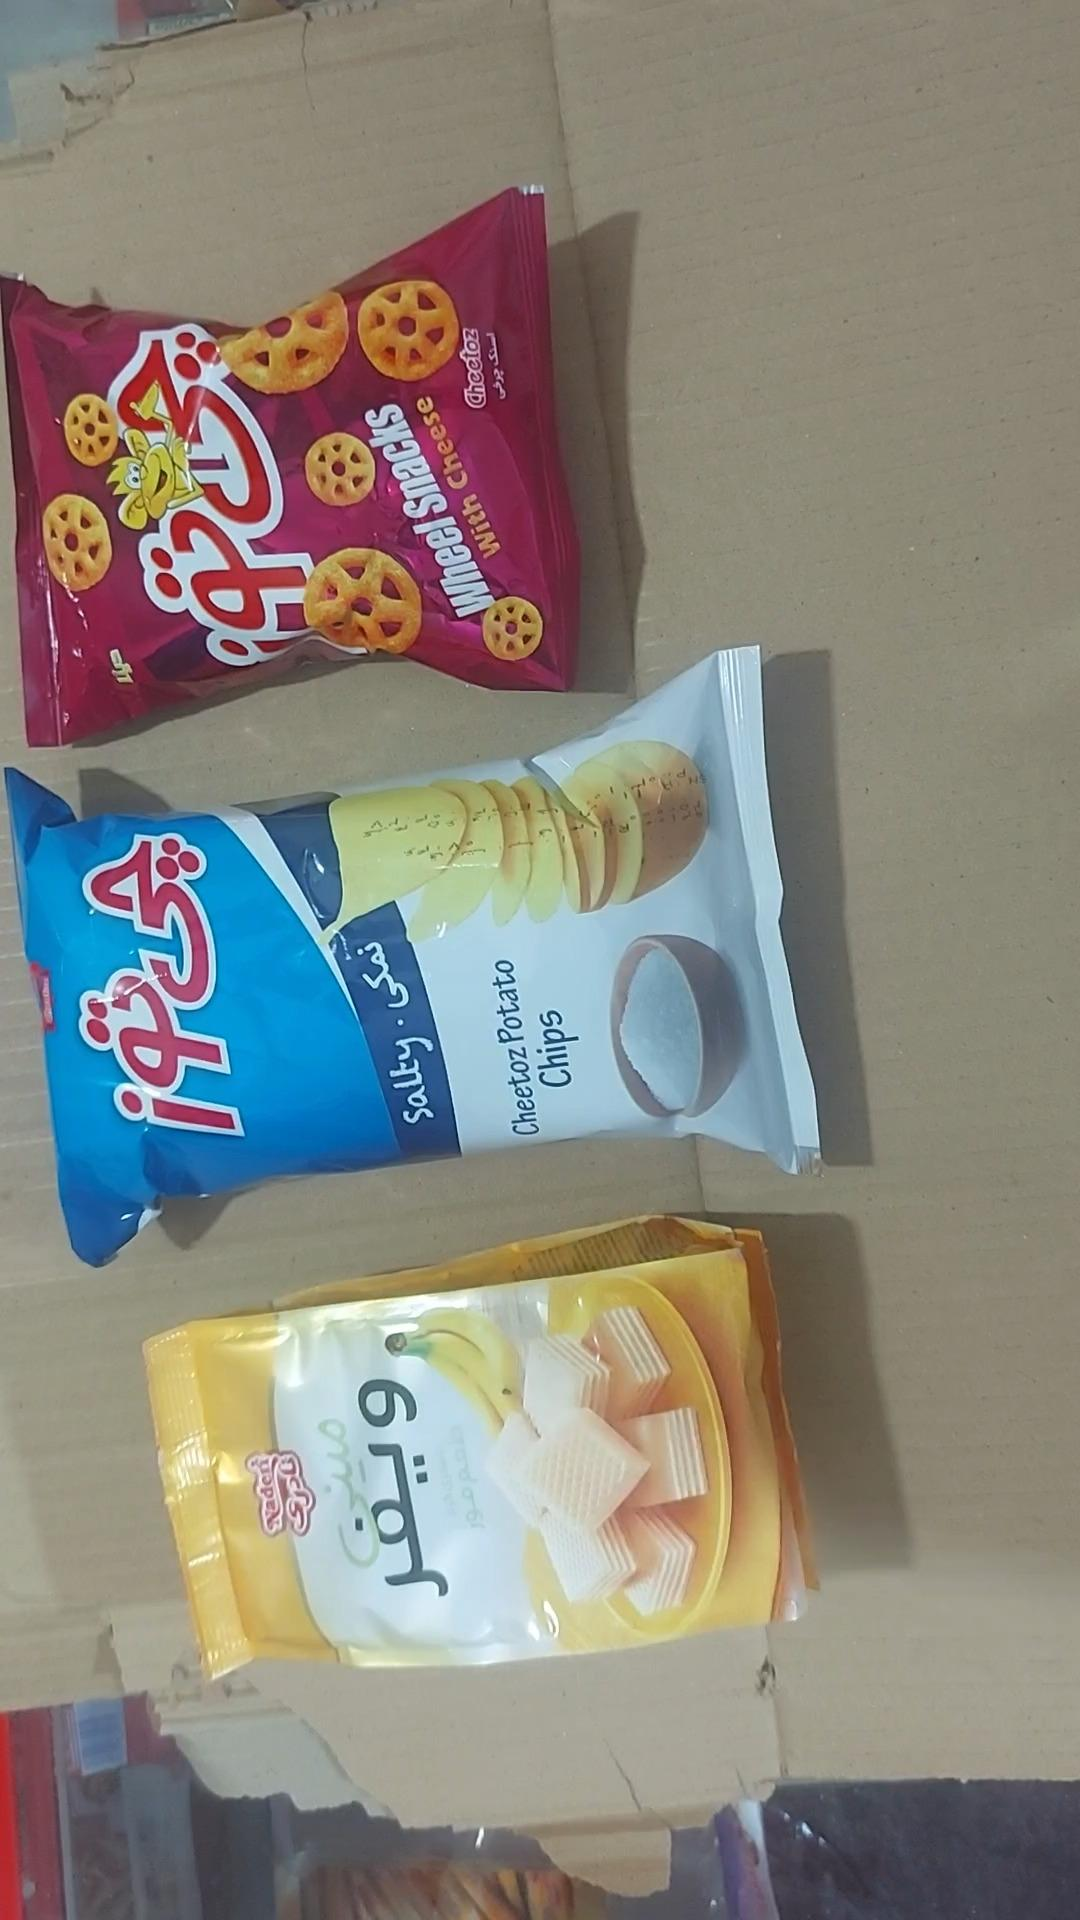Cheetoz salty chips: (1, 647, 822, 1270)
Cheetoz wheelsnack: (0, 187, 582, 750)
Naderi mini wafer: (140, 1215, 820, 1681)
